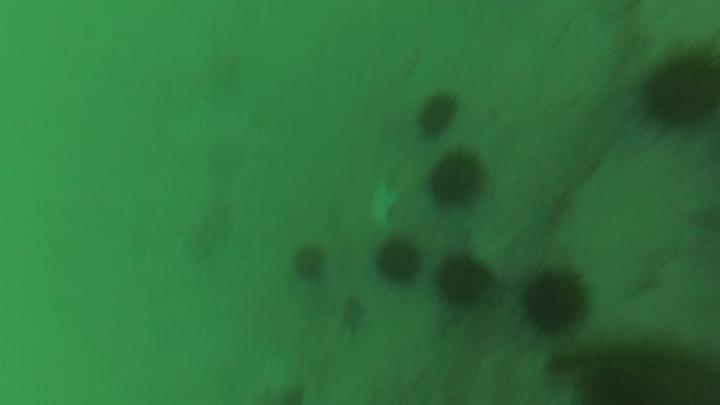echinus: (628, 42, 720, 145), (515, 259, 598, 340), (429, 245, 501, 317), (420, 145, 492, 213), (371, 232, 428, 290), (416, 90, 463, 141), (291, 240, 329, 282)
starfish: (361, 177, 404, 234), (338, 288, 369, 339)
